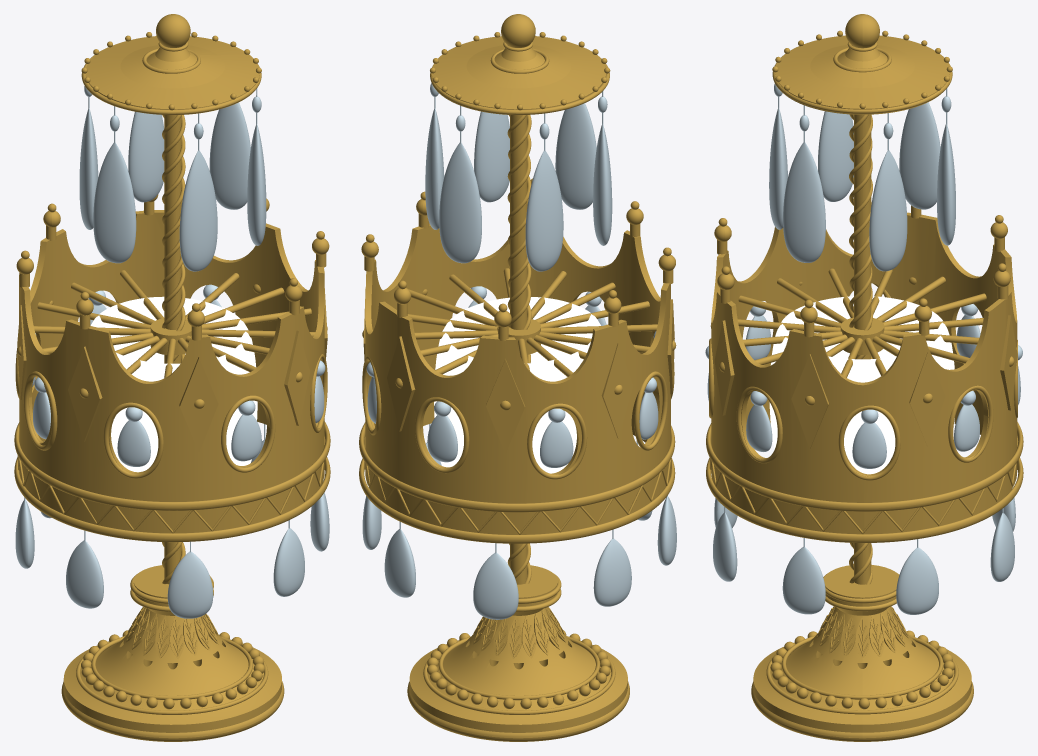
Rendered from crown-lamp.glb.
3 renders of one model, left to right at view 1: azimuth 30°, elevation 25°; view 2: azimuth 150°, elevation 25°; view 3: azimuth 270°, elevation 25°, orthographic.
Visible parts, largest first — view 1: body-139, light-001, crystal_glass-074, crystal_glass-073, crystal_glass-077, body-031, body-032, crystal_glass-076, crystal_glass-150, crystal_glass-078, crystal_glass-132, details_of_body-061 (+16 smaller); view 2: body-139, light-001, crystal_glass-076, crystal_glass-075, crystal_glass-073, body-031, body-032, crystal_glass-078, crystal_glass-136, crystal_glass-074, crystal_glass-134, details_of_body-058 (+16 smaller); view 3: body-139, light-001, crystal_glass-078, crystal_glass-077, crystal_glass-075, body-031, body-032, crystal_glass-074, crystal_glass-152, crystal_glass-151, crystal_glass-076, details_of_body-069 (+17 smaller).
Part boxes in pixels (x1,y1,x2,y2): body-139: (16,14,329,741); light-001: (90,296,257,472); crystal_glass-074: (93,106,136,263); crystal_glass-073: (179,113,217,271); crystal_glass-077: (209,102,250,209); body-031: (14,421,330,510); body-032: (14,457,330,542); crystal_glass-076: (128,111,164,202); crystal_glass-150: (167,541,213,618); crystal_glass-078: (247,88,266,245); crystal_glass-132: (66,530,103,608); details_of_body-061: (179,357,218,452); body-139: (361,14,675,741); light-001: (434,297,600,473); crystal_glass-076: (439,105,481,263); crystal_glass-075: (525,113,563,271); crystal_glass-073: (555,103,596,209); body-031: (359,422,675,512); body-032: (359,458,675,543); crystal_glass-078: (474,111,509,202); crystal_glass-136: (473,543,518,619); crystal_glass-074: (593,91,612,245); crystal_glass-134: (593,529,631,606); details_of_body-058: (486,359,525,453); body-139: (711,14,1017,741); light-001: (769,296,954,474); crystal_glass-078: (783,105,825,262); crystal_glass-077: (869,113,907,271); crystal_glass-075: (899,102,940,209); body-031: (706,422,1023,511); body-032: (706,457,1023,542); crystal_glass-074: (818,111,853,201); crystal_glass-152: (782,538,825,614); crystal_glass-151: (896,539,938,614); crystal_glass-076: (937,88,955,245); details_of_body-069: (791,354,828,448).
Size of the model in its own units: 7.26 by 17.21 by 7.28.
